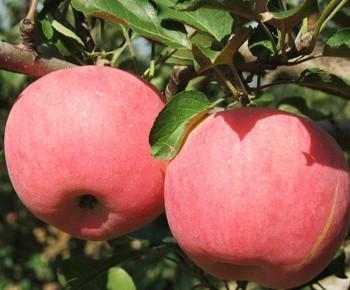apple: (164, 107, 346, 276), (5, 66, 166, 239)
